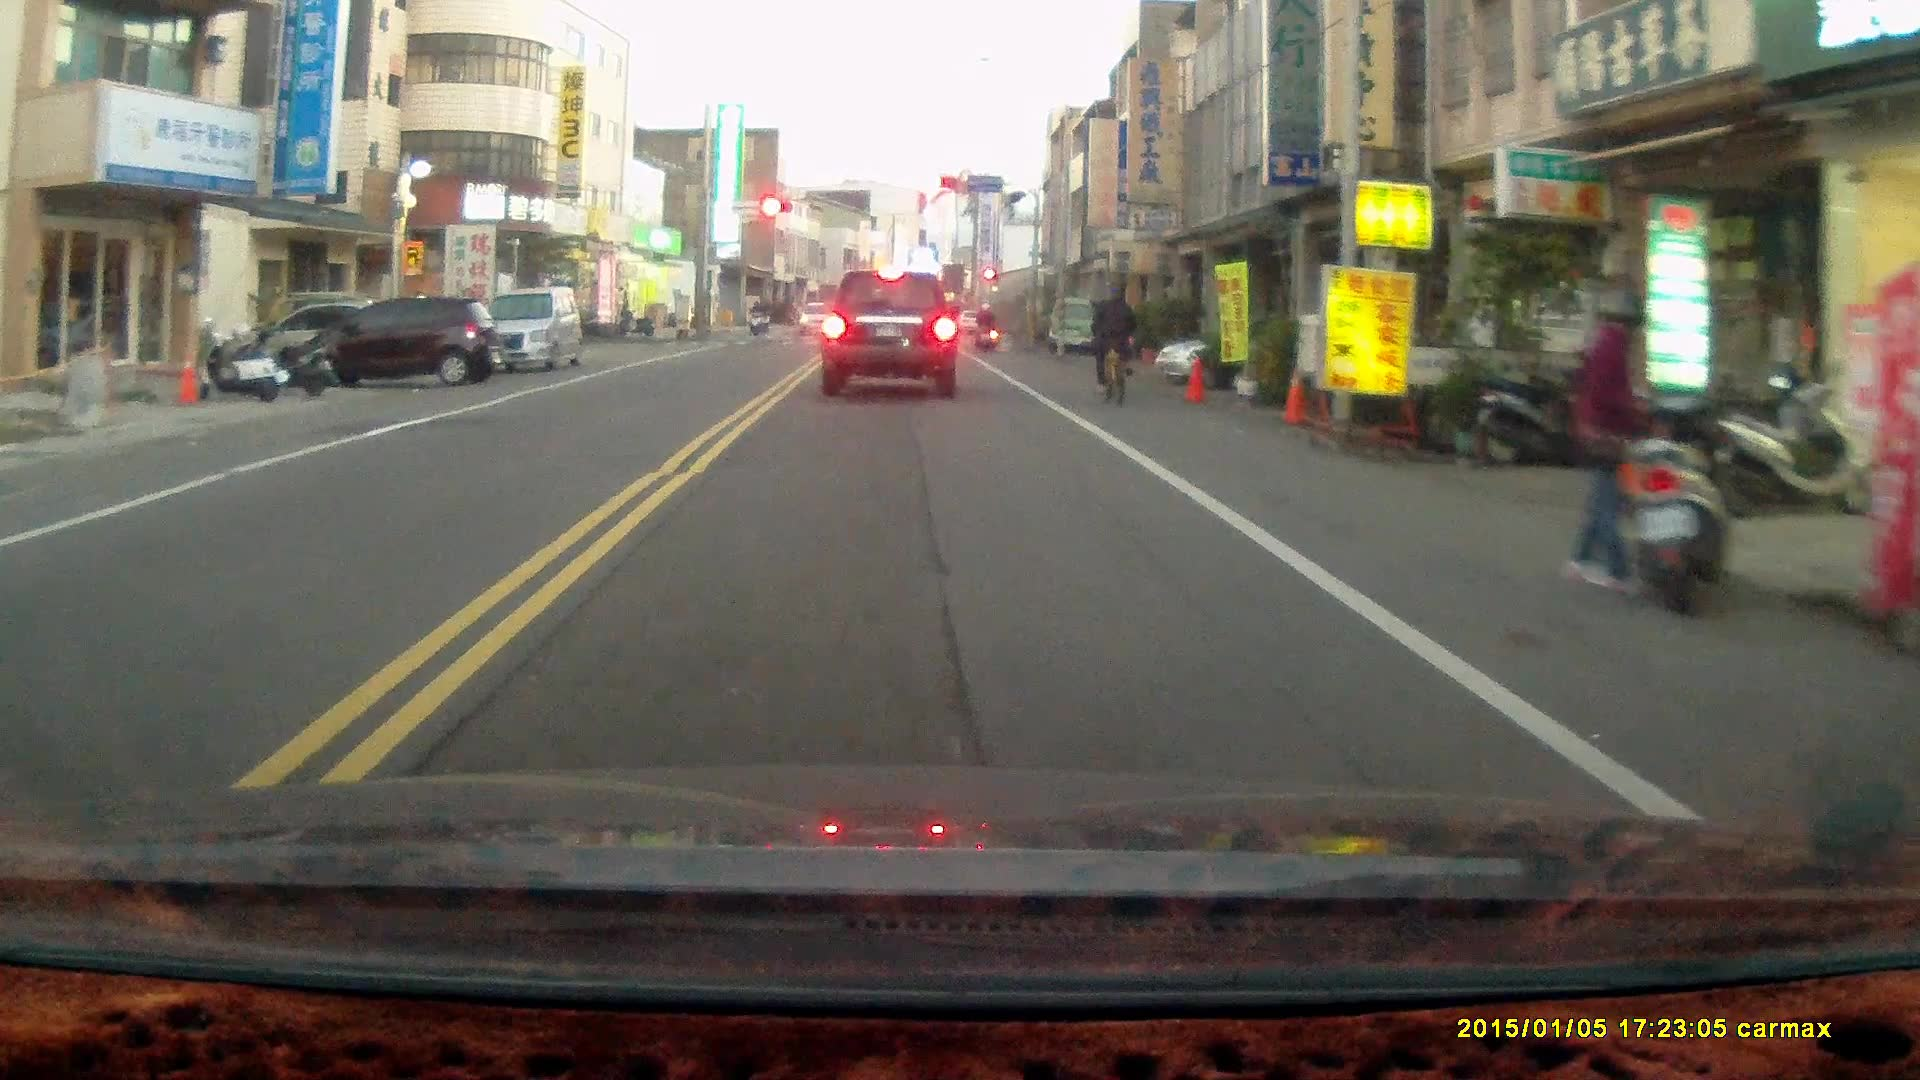pedestrian: (1565, 290, 1667, 598)
rider: (1090, 277, 1140, 405), (972, 296, 998, 351), (746, 298, 768, 338)
vehicle: (298, 297, 501, 397), (820, 269, 960, 401), (1153, 318, 1383, 389), (461, 285, 586, 375)
